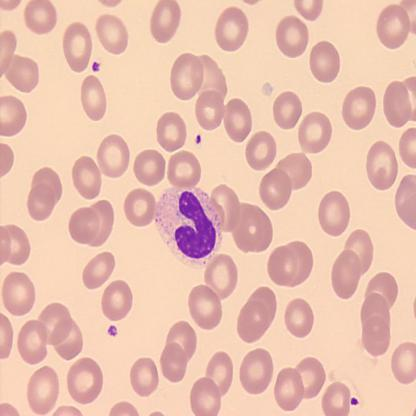Band Neutrophil: (152, 183, 224, 269)
